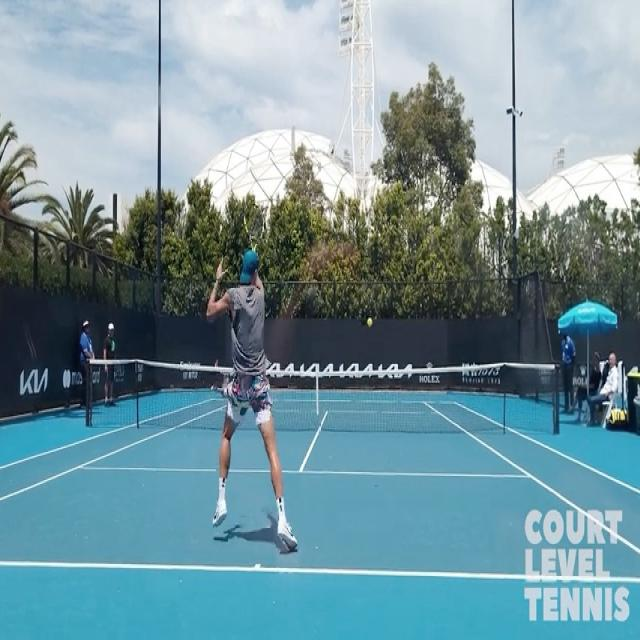forehand-stroke: (198, 182, 300, 561)
